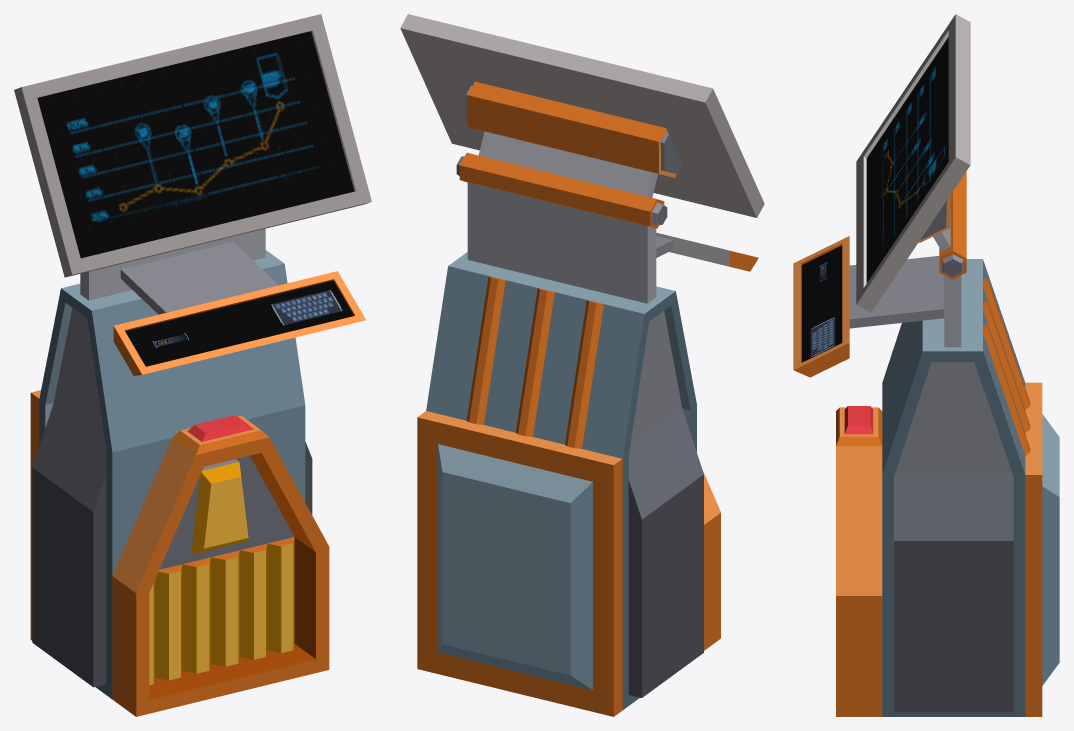
File: Computer_01.glb
3 renders of one model, left to right at view 1: azimuth 30°, elevation 25°; view 2: azimuth 150°, elevation 25°; view 3: azimuth 270°, elevation 25°, orthographic. The views are drawn at different scales.
Visible parts, largest first — view 1: Computer_01; view 2: Computer_01; view 3: Computer_01.
Part boxes in pixels (x1,y1,x2,y2): Computer_01: [14, 14, 371, 716]; Computer_01: [400, 14, 764, 716]; Computer_01: [793, 14, 1059, 716].
Size of what is drawn, in the model's own units: 0.7132 by 1.36 by 0.5603.
Materials: 2 (2 with a texture image).
